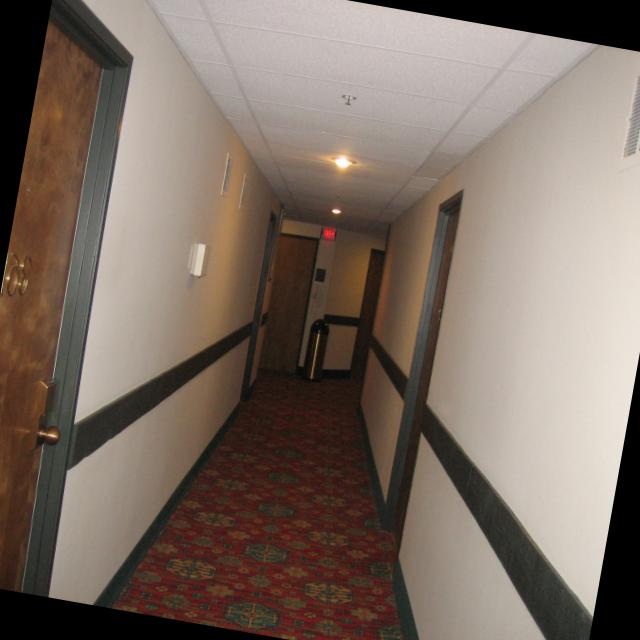exit sign: (319, 225, 337, 241)
